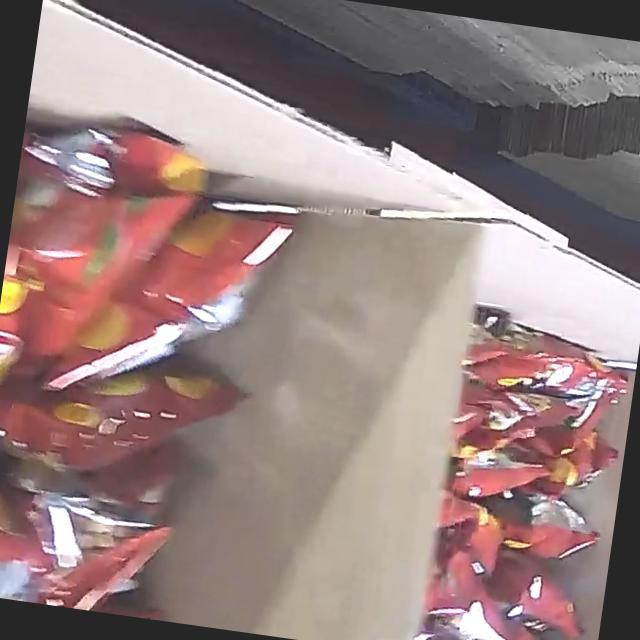masala: (0, 91, 305, 631), (413, 315, 639, 640)
